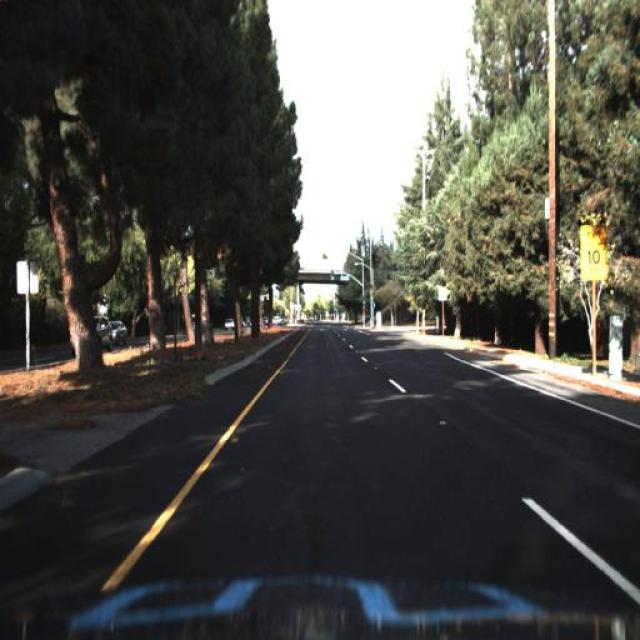car: (102, 314, 128, 354), (86, 316, 114, 353)
